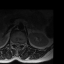CCS_normal: (17, 41, 19, 48)
LFS_normal: (21, 41, 23, 46)
LLS_stenosis: (19, 41, 21, 47)
RFS_normal: (12, 41, 15, 45)
RLS_normal: (15, 41, 17, 46)
